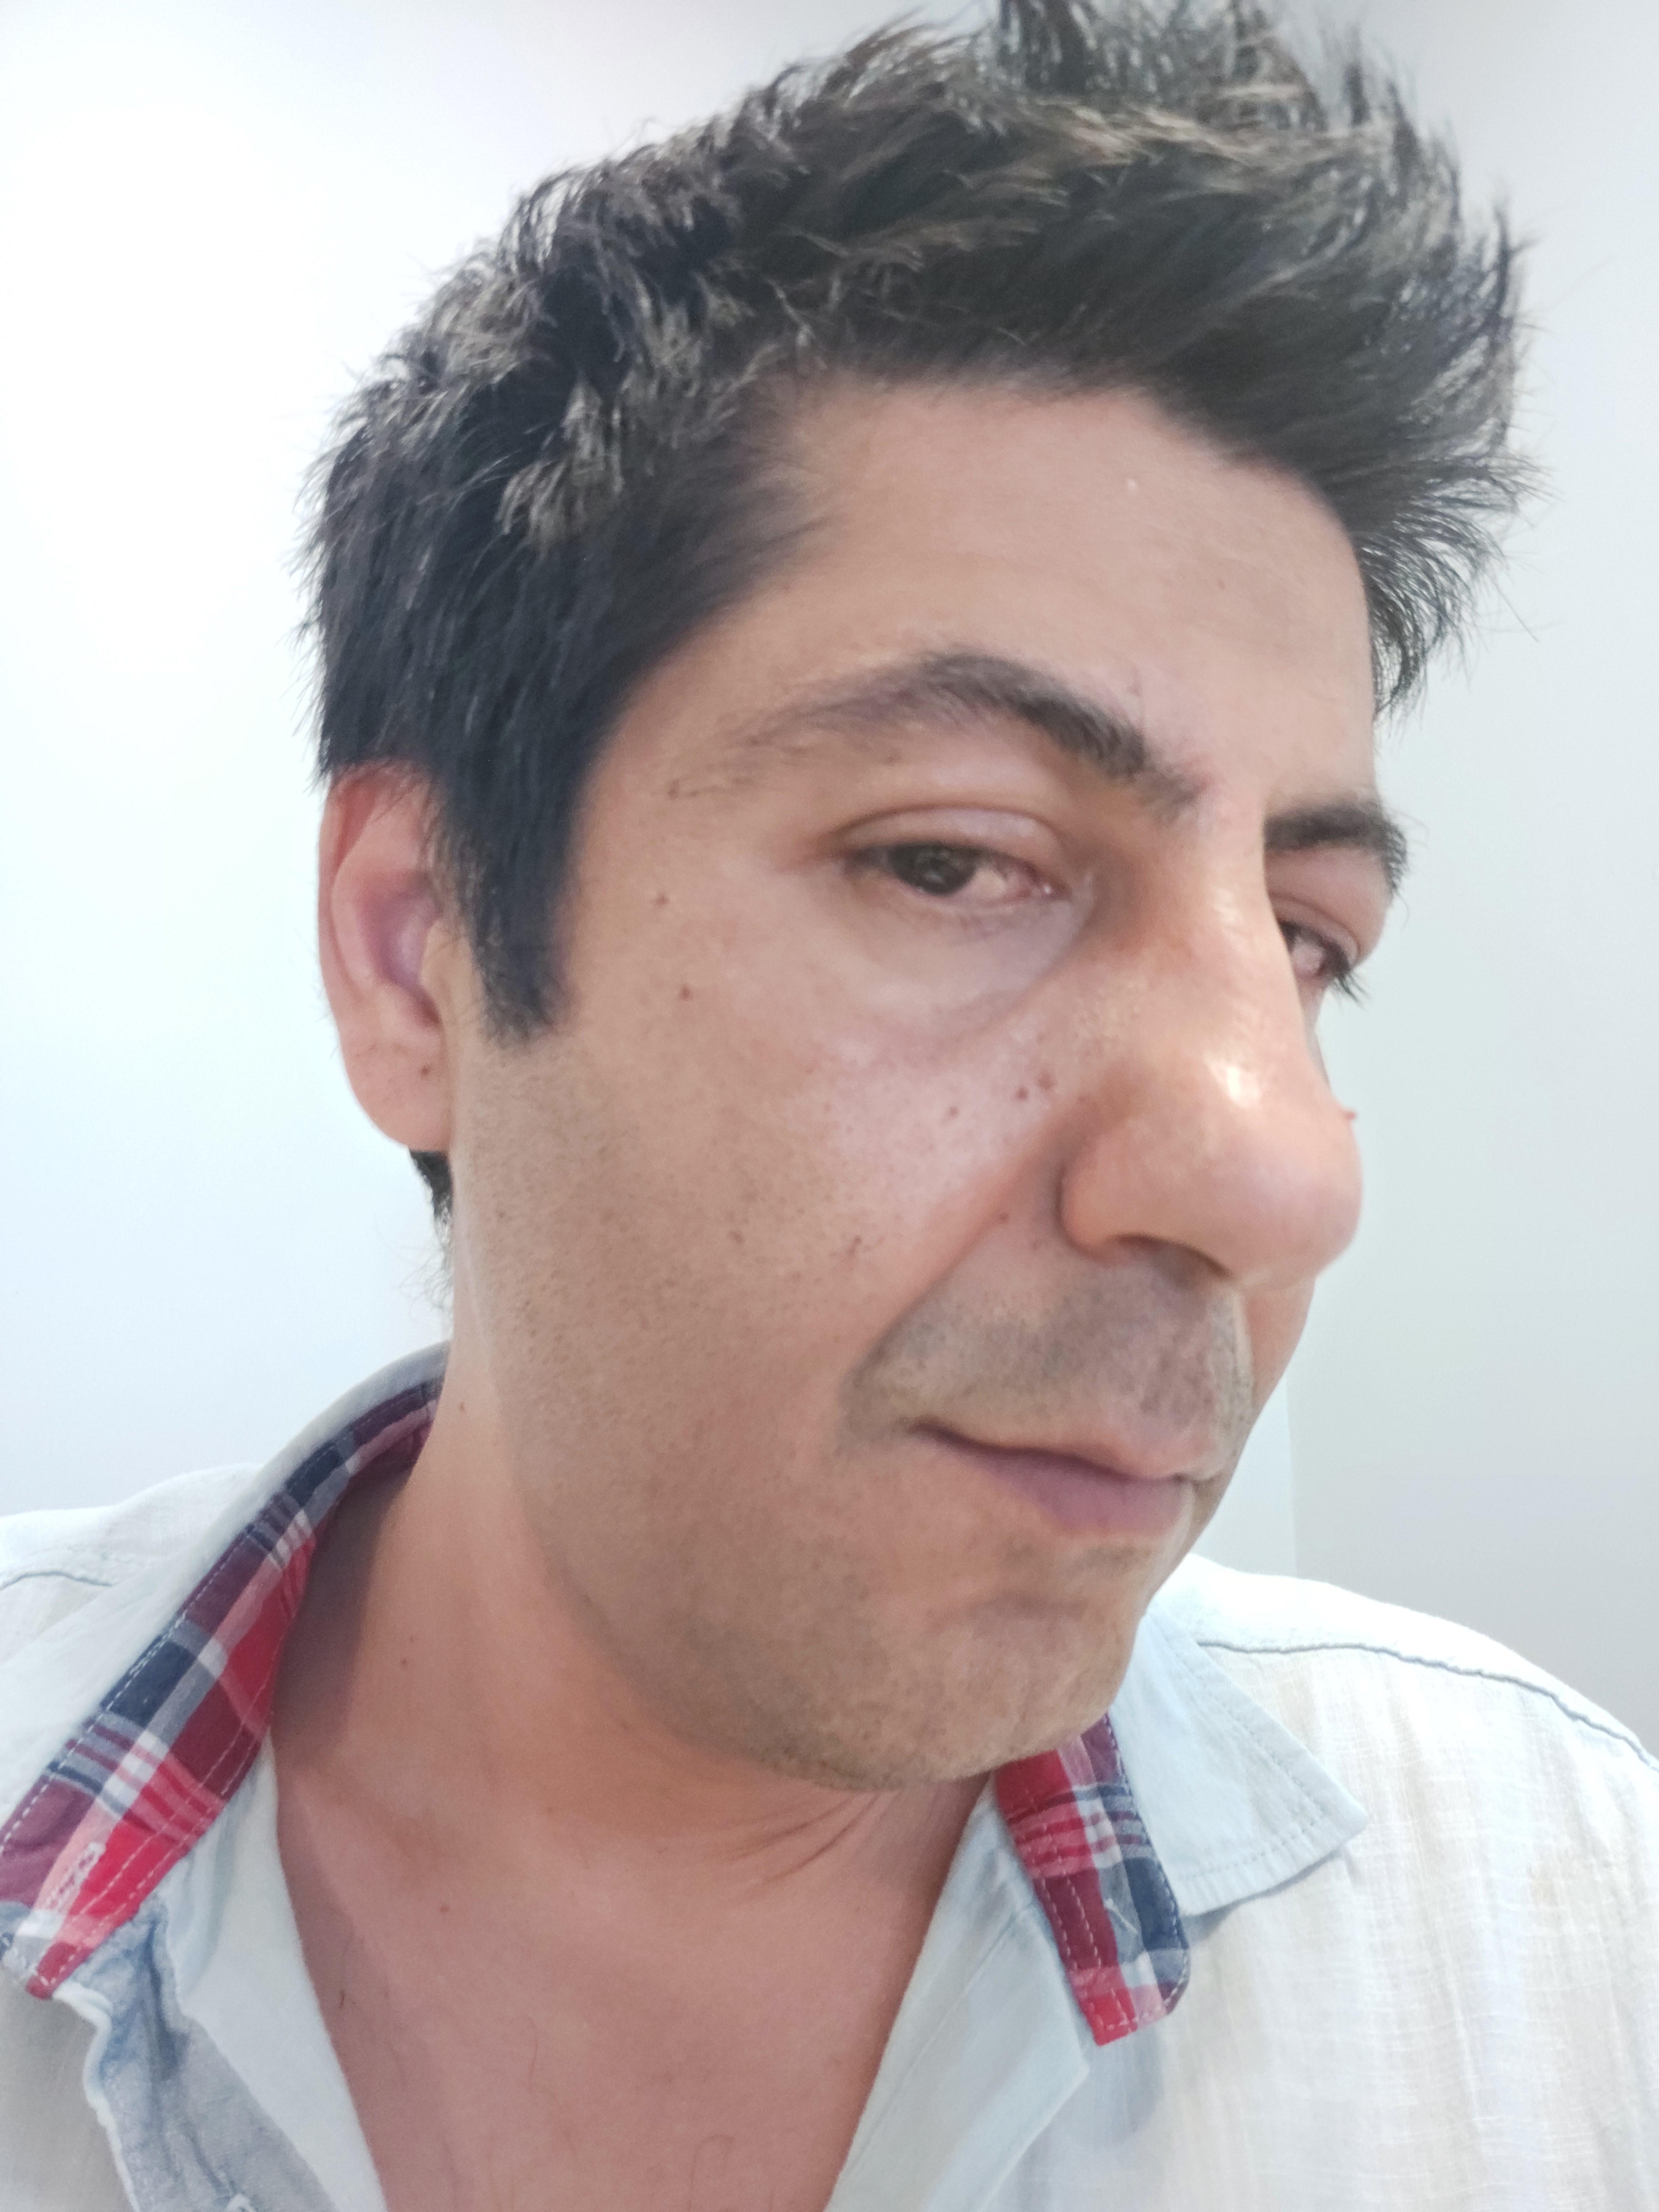Acne: (828, 1151, 1044, 1416), (1241, 1305, 1262, 1421), (1117, 467, 1152, 498)
Englarged-Pores: (725, 1069, 950, 1244)
Wrinkles: (939, 550, 1148, 611), (1147, 519, 1307, 585)
